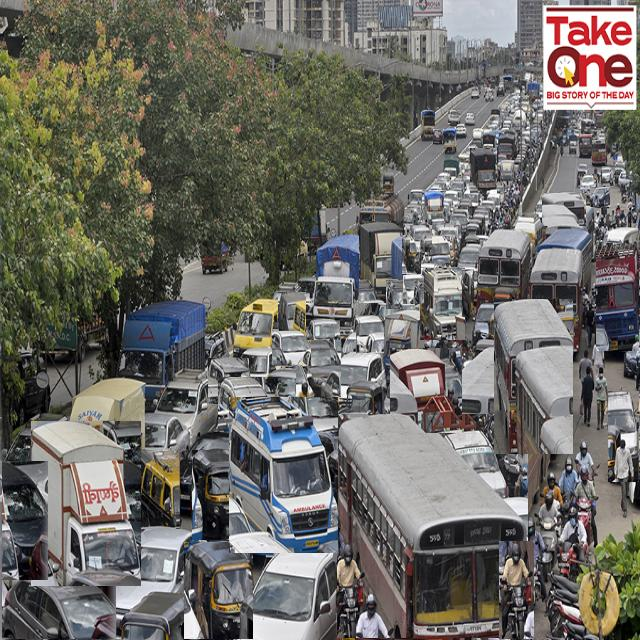autorickshaw: (185, 542, 253, 639), (192, 450, 240, 540), (348, 381, 382, 424), (402, 236, 421, 274), (576, 169, 586, 187)
bus: (338, 415, 528, 638), (435, 347, 552, 505), (230, 397, 338, 553), (495, 300, 573, 454), (530, 248, 582, 352), (478, 231, 532, 302), (538, 229, 592, 292), (542, 193, 586, 226), (514, 216, 542, 254), (545, 216, 589, 237), (551, 204, 594, 220), (592, 140, 606, 165), (579, 135, 592, 156)
car: (235, 532, 339, 639), (111, 527, 206, 631), (2, 572, 116, 639), (0, 414, 69, 502), (2, 462, 48, 580), (154, 368, 222, 443), (335, 409, 381, 494), (219, 377, 278, 432), (420, 268, 465, 340), (234, 300, 290, 355), (141, 452, 180, 529), (609, 392, 639, 482), (296, 339, 341, 397), (330, 352, 386, 398), (145, 411, 191, 464), (209, 358, 249, 404), (270, 368, 316, 400), (272, 330, 311, 366), (474, 304, 502, 346), (278, 293, 306, 331), (357, 315, 384, 353), (386, 280, 415, 309), (624, 326, 640, 376), (306, 319, 340, 340), (425, 237, 450, 263), (410, 225, 432, 252), (404, 275, 424, 304), (462, 270, 474, 317), (590, 187, 610, 207), (581, 175, 597, 195), (601, 167, 615, 186), (449, 110, 459, 124), (456, 124, 466, 137), (465, 113, 475, 126), (434, 130, 443, 144)
motorcycle: (500, 542, 534, 639), (559, 506, 588, 581), (538, 491, 560, 580), (575, 467, 598, 546)
truck: (31, 422, 141, 586), (116, 300, 206, 410), (311, 234, 371, 337), (390, 349, 462, 433), (596, 243, 640, 351), (69, 379, 145, 434), (360, 221, 403, 303), (384, 309, 429, 370), (358, 195, 404, 230), (471, 148, 497, 194), (422, 191, 444, 231), (499, 133, 516, 159), (421, 110, 435, 139), (444, 128, 456, 154)
